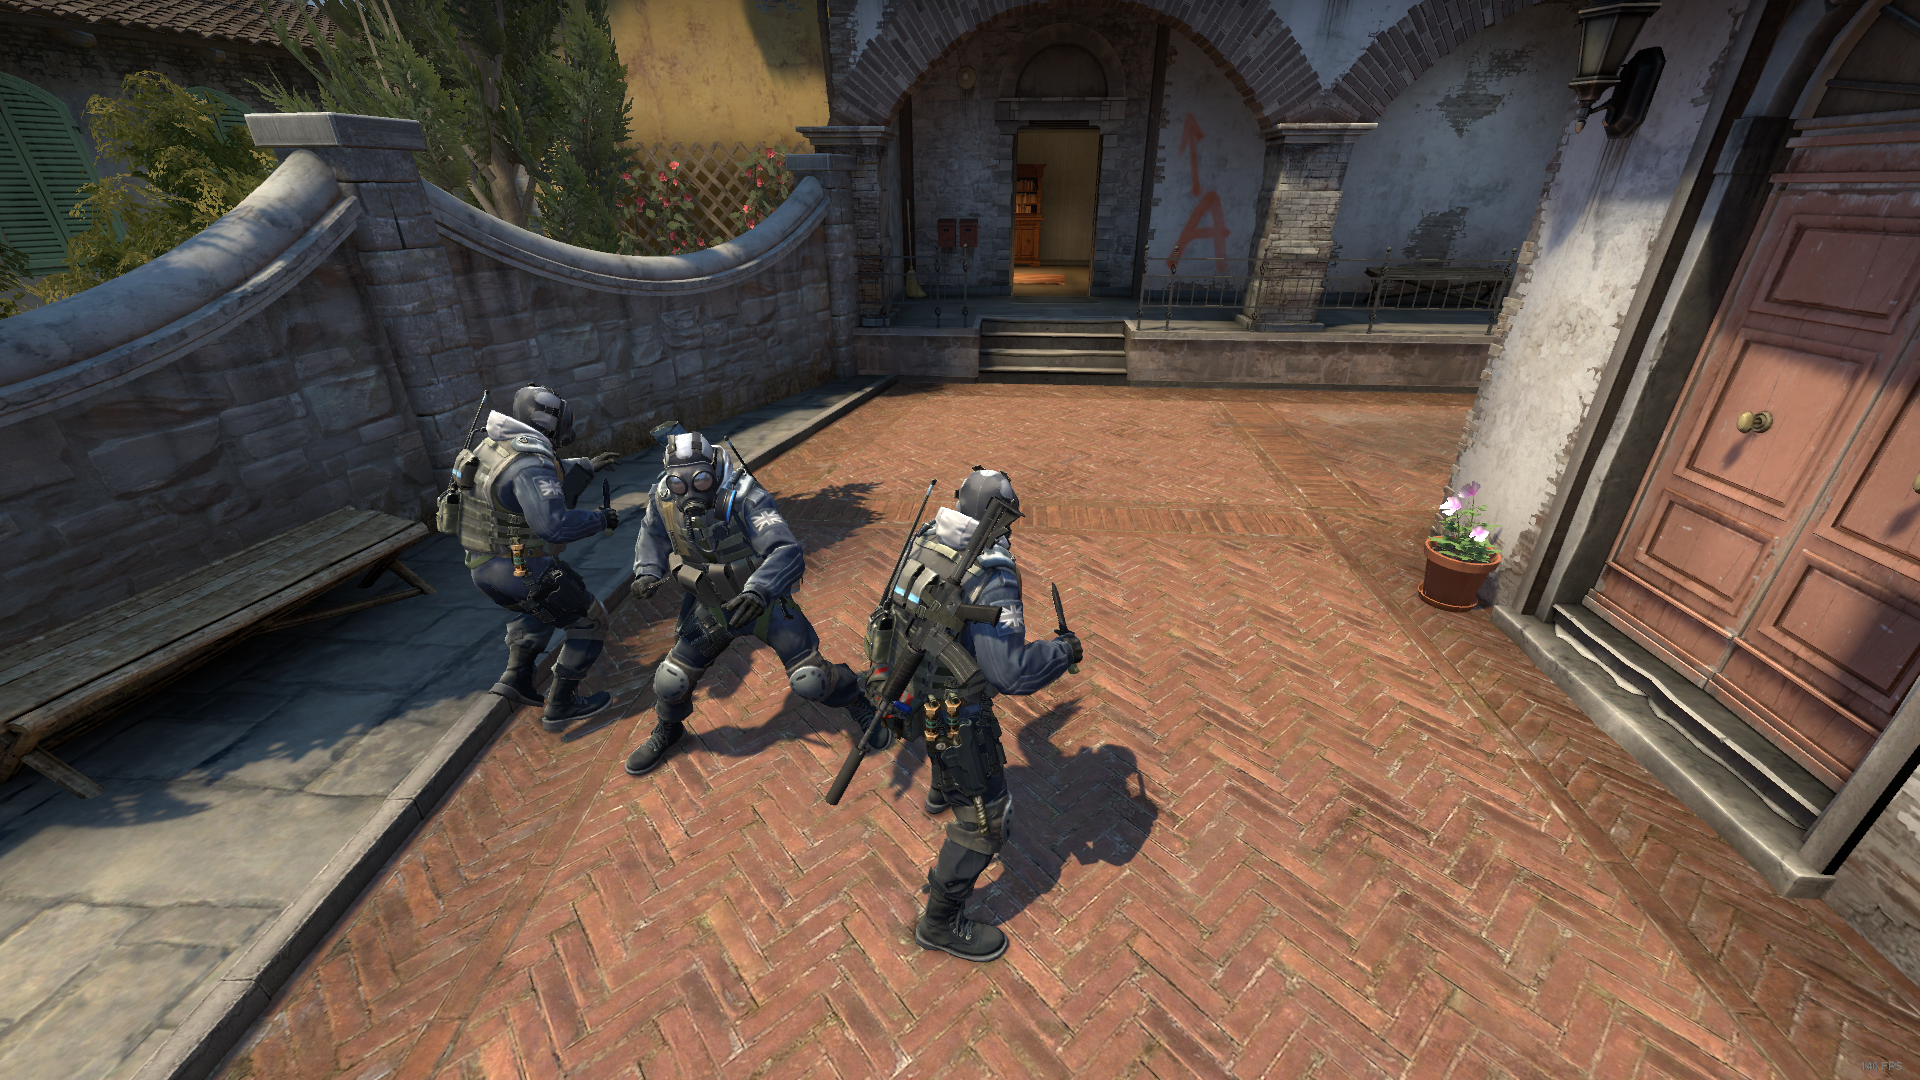ct: (872, 462, 1083, 956), (629, 433, 893, 781), (451, 385, 622, 717)
